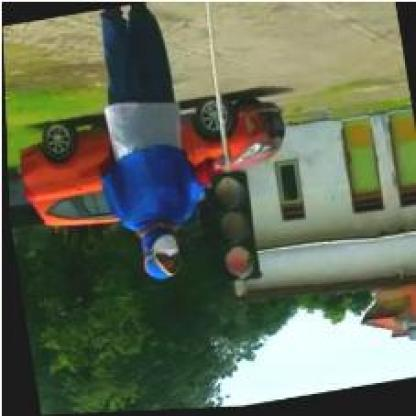red: (204, 171, 261, 287)
